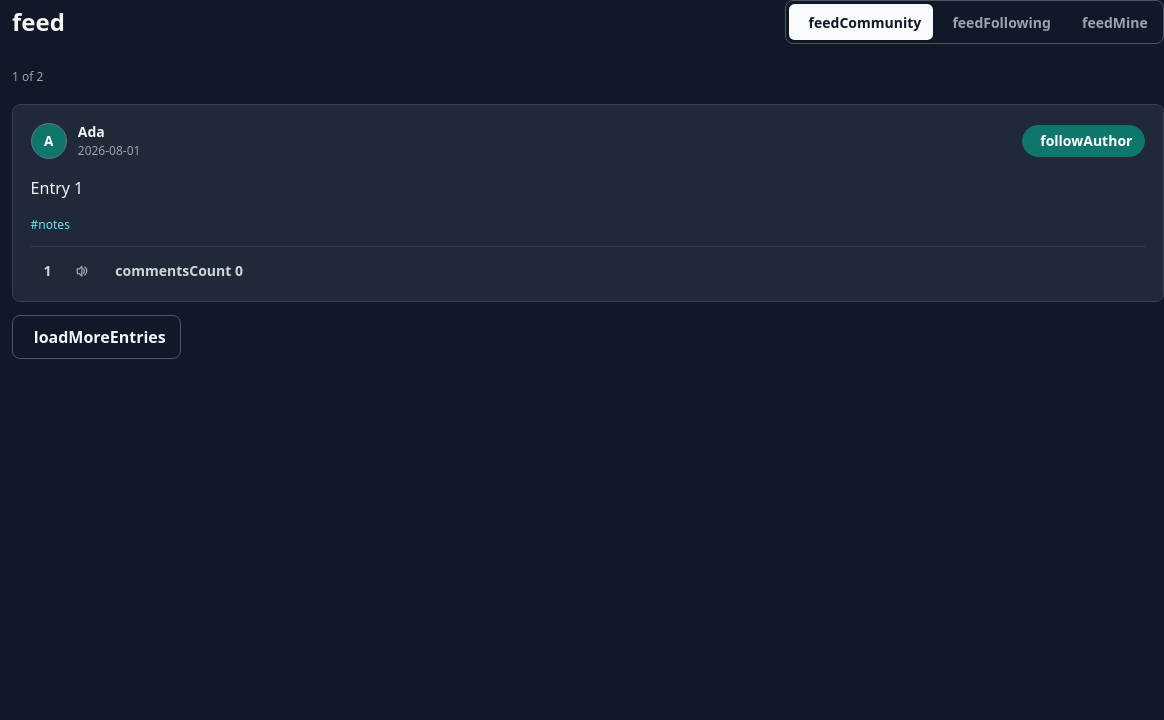
FeedPage › loads community entries and appends the next page
Expected: the text "Entry 1" is shown, [31,177,83,199]
Click the button "loadMoreEntries" at (97, 337), box [12,315,181,359]
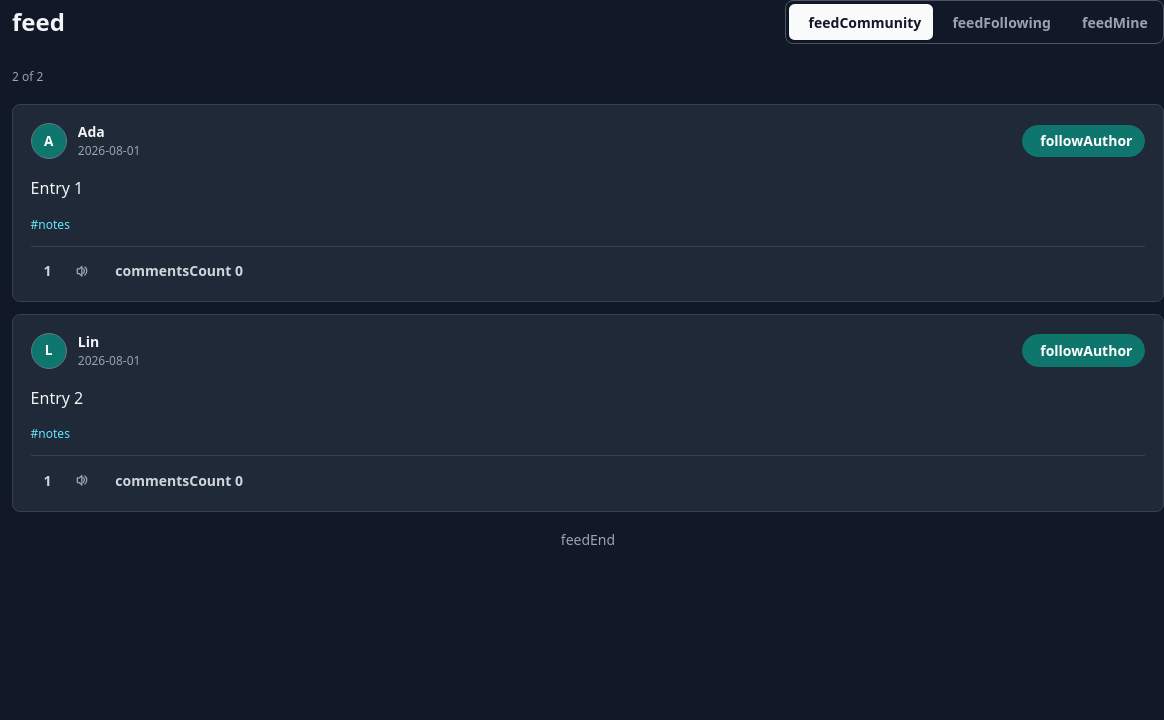
Now the text "Entry 2" is shown, box [31,386,83,408]
Now the text "2 of 2" is shown, box [12,68,43,85]
